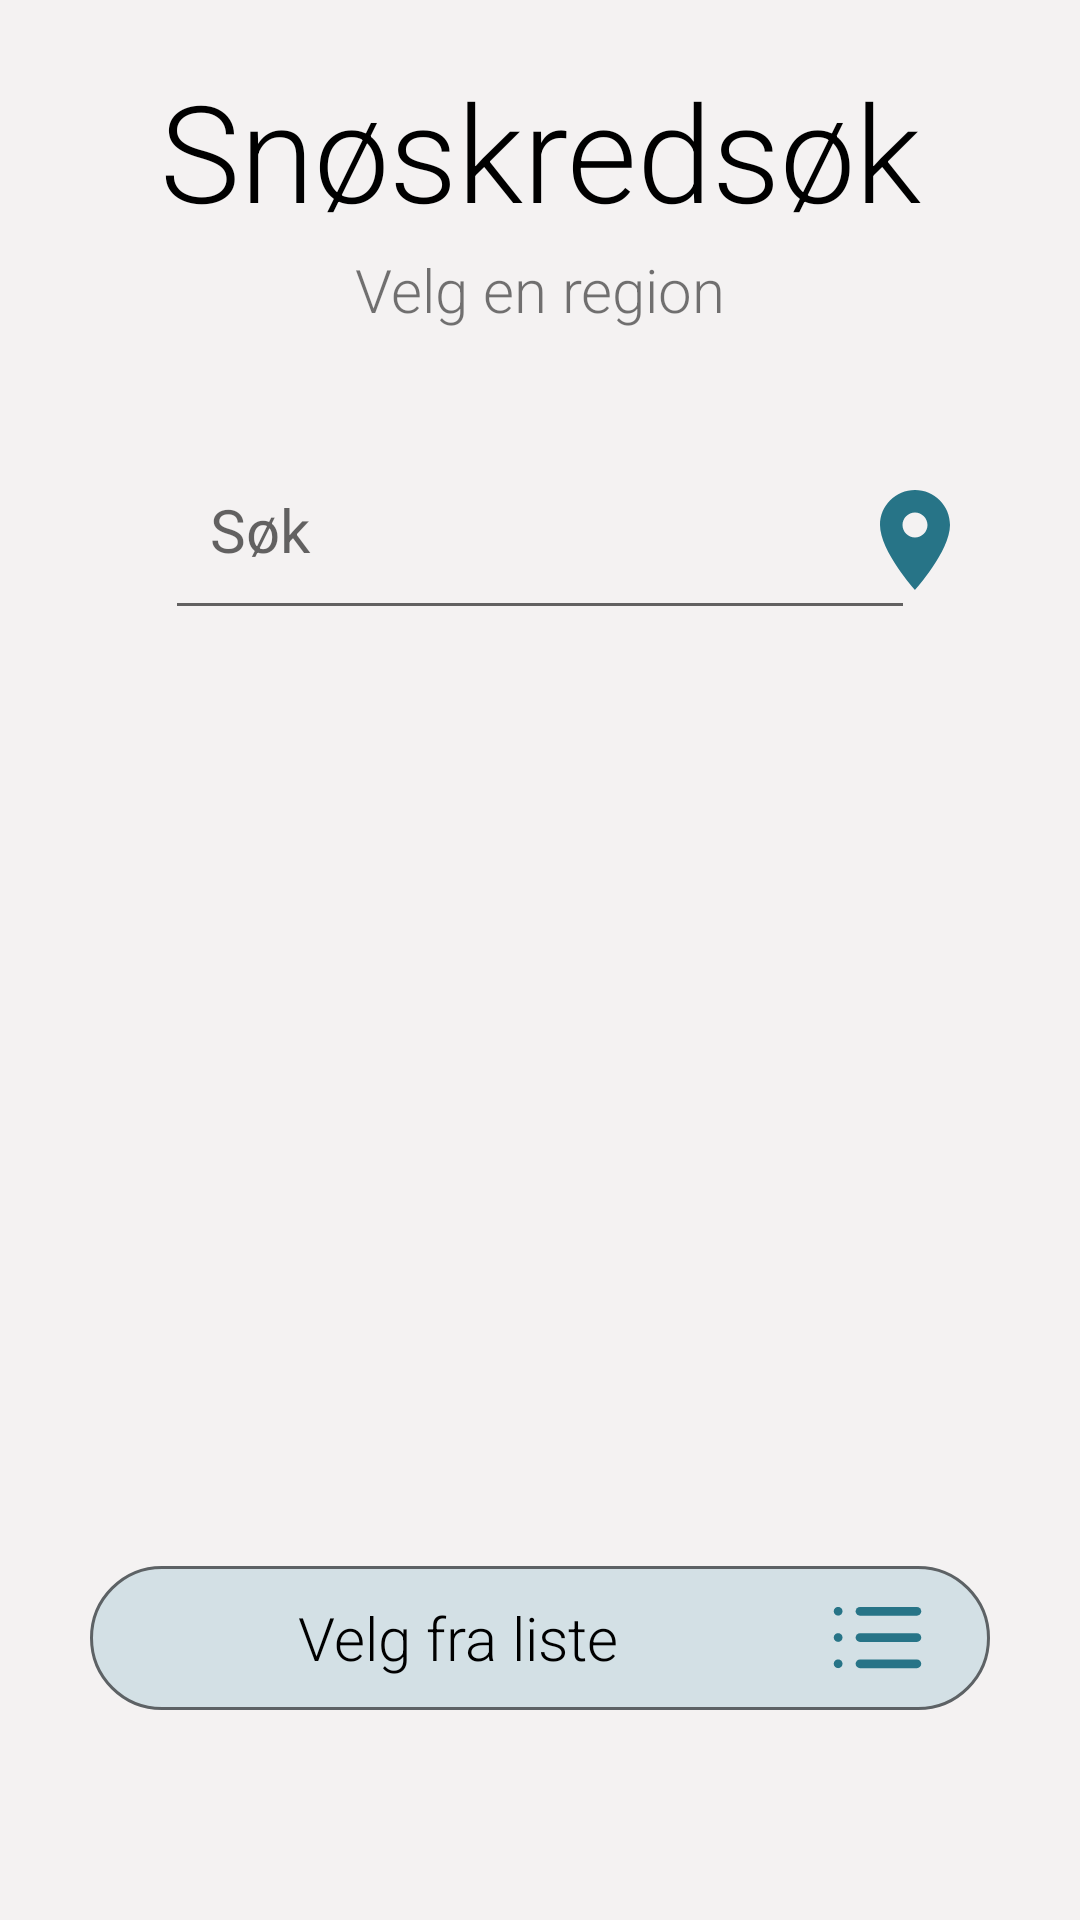

Locate icon controls on the screen. Image size 1080 x 1920, boxes as (x1, y1, x2, y2).
location: (880, 490, 950, 590)
